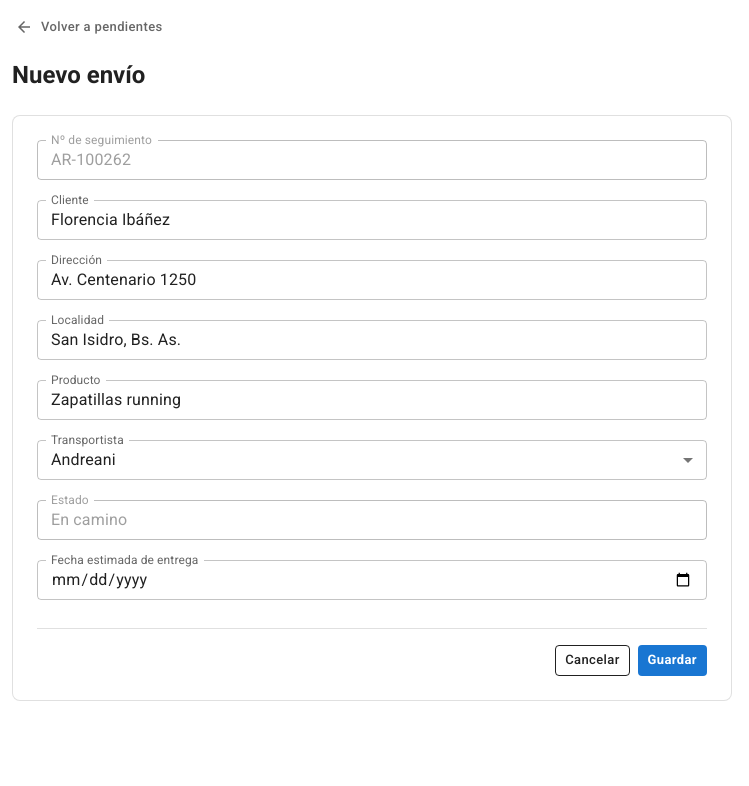
it: NewShipmentPage › muestra el mensaje del backend cuando responde 404
The width and height of the screenshot is (749, 786).
Type "2999-01-01" into the date field labelled "Fecha estimada de entrega" at (372, 580), box [37,560,707,600]
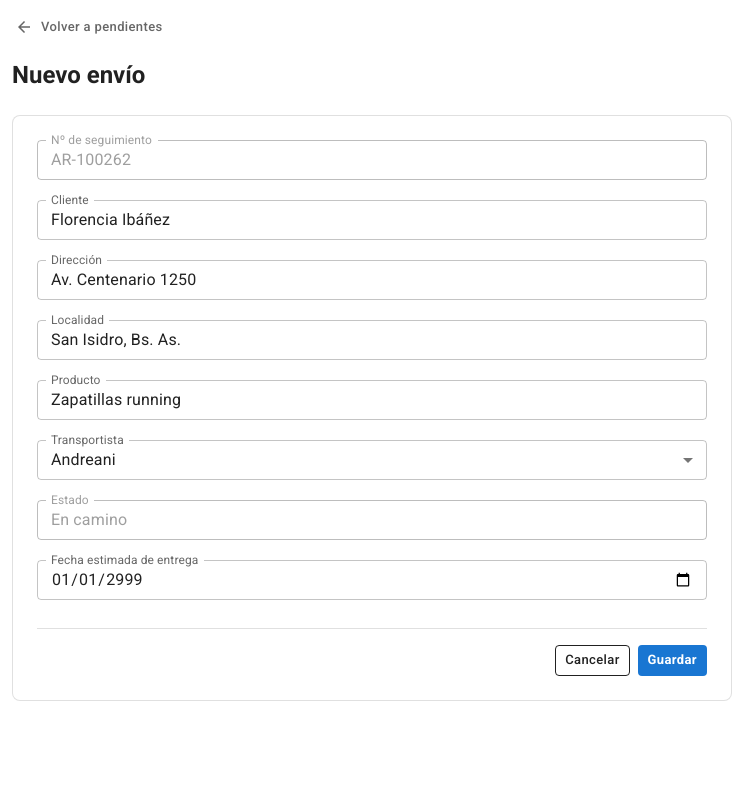
Click the button "Guardar" at (672, 660), box [638,645,707,676]
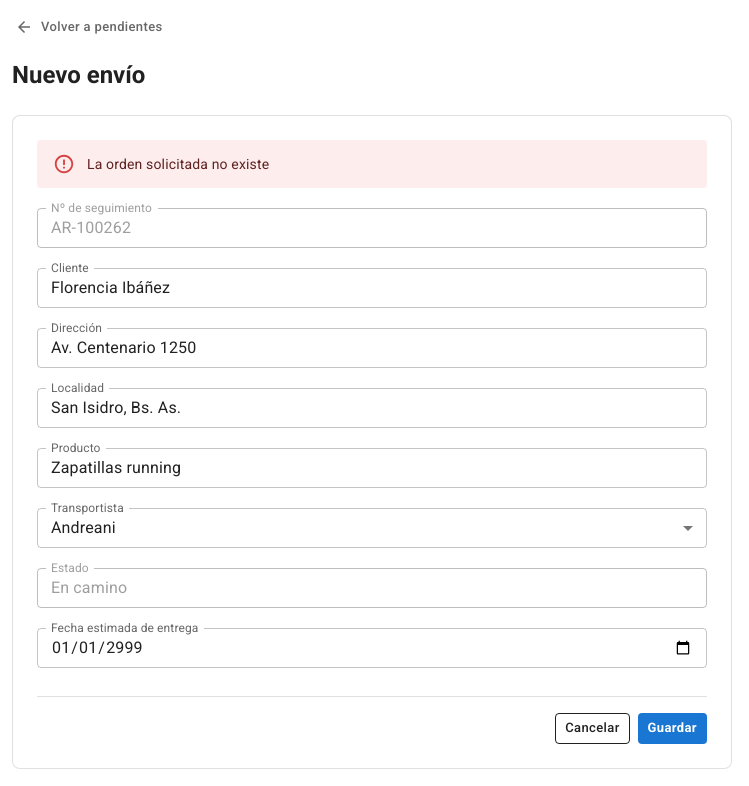
Expected: the text "La orden solicitada no existe" is shown, [87,156,269,172]
